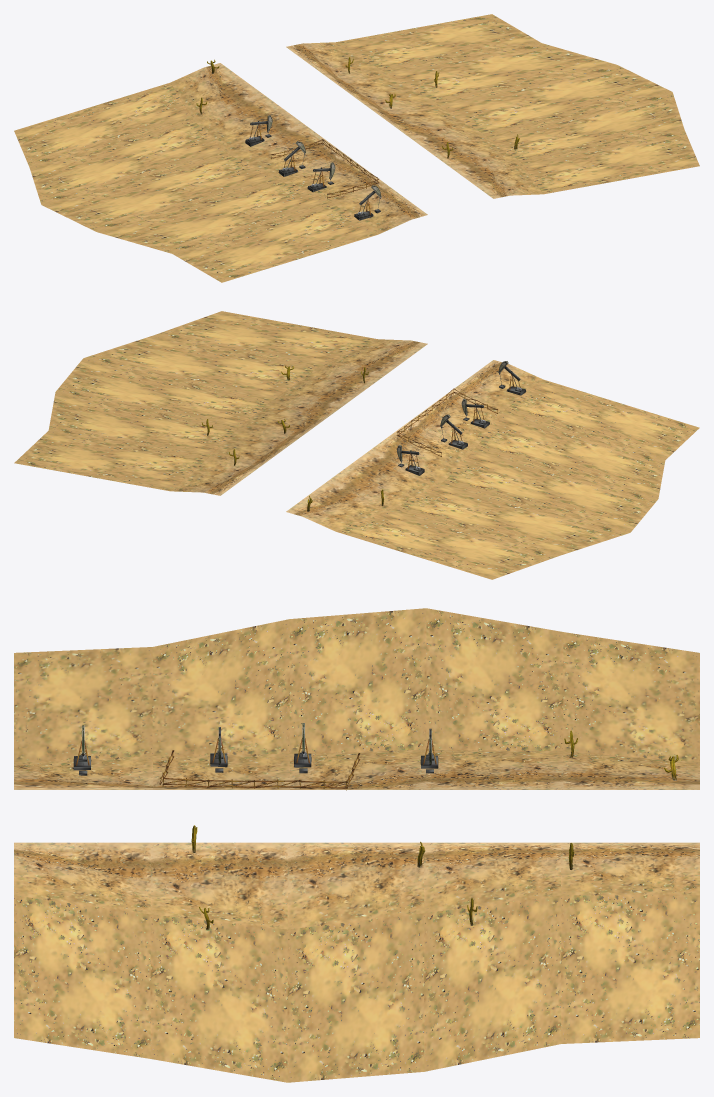
Rendered from us_des_mid_01.fbx.
3 renders of one model, top to bottom at view 1: azimuth 30°, elevation 25°; view 2: azimuth 150°, elevation 25°; view 3: azimuth 270°, elevation 25°, orthographic. The views are drawn at different scales.
Parts seen in each view (by area): view 1: des_mid_01, des_props_01; view 2: des_mid_01, des_props_01; view 3: des_mid_01, des_props_01.
Part boxes in pixels (box(x1,y1,x2,y2)): des_mid_01: box(14, 14, 699, 282); des_props_01: box(196, 57, 519, 220); des_mid_01: box(14, 311, 699, 579); des_props_01: box(201, 361, 525, 511); des_mid_01: box(14, 608, 699, 1082); des_props_01: box(73, 723, 678, 929).
Bounding box in the file's own units: 16370 × 1065 × 10000.
